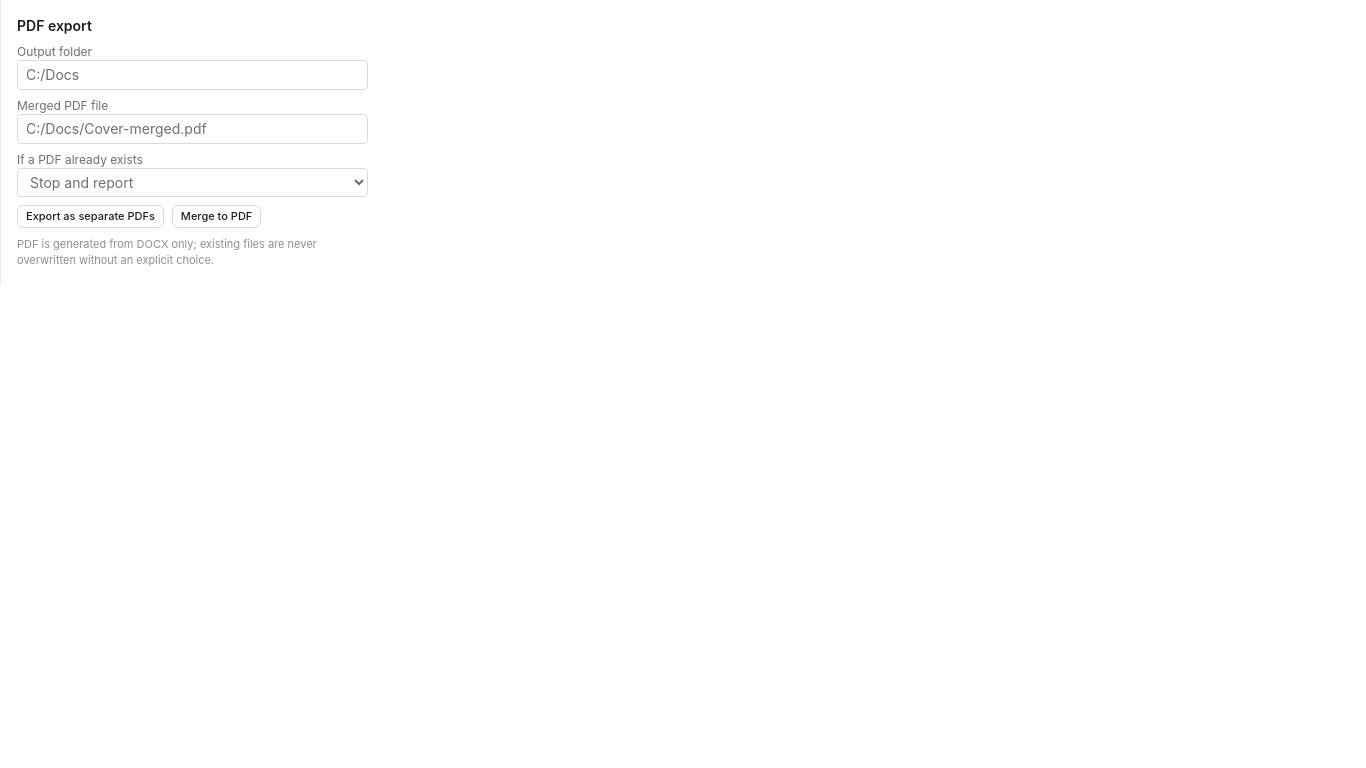
PdfExportPanel › merge sends the explicit user order and output path
The image size is (1366, 768).
Click the button "Merge to PDF".
click(217, 216)  # box [172,205,261,228]
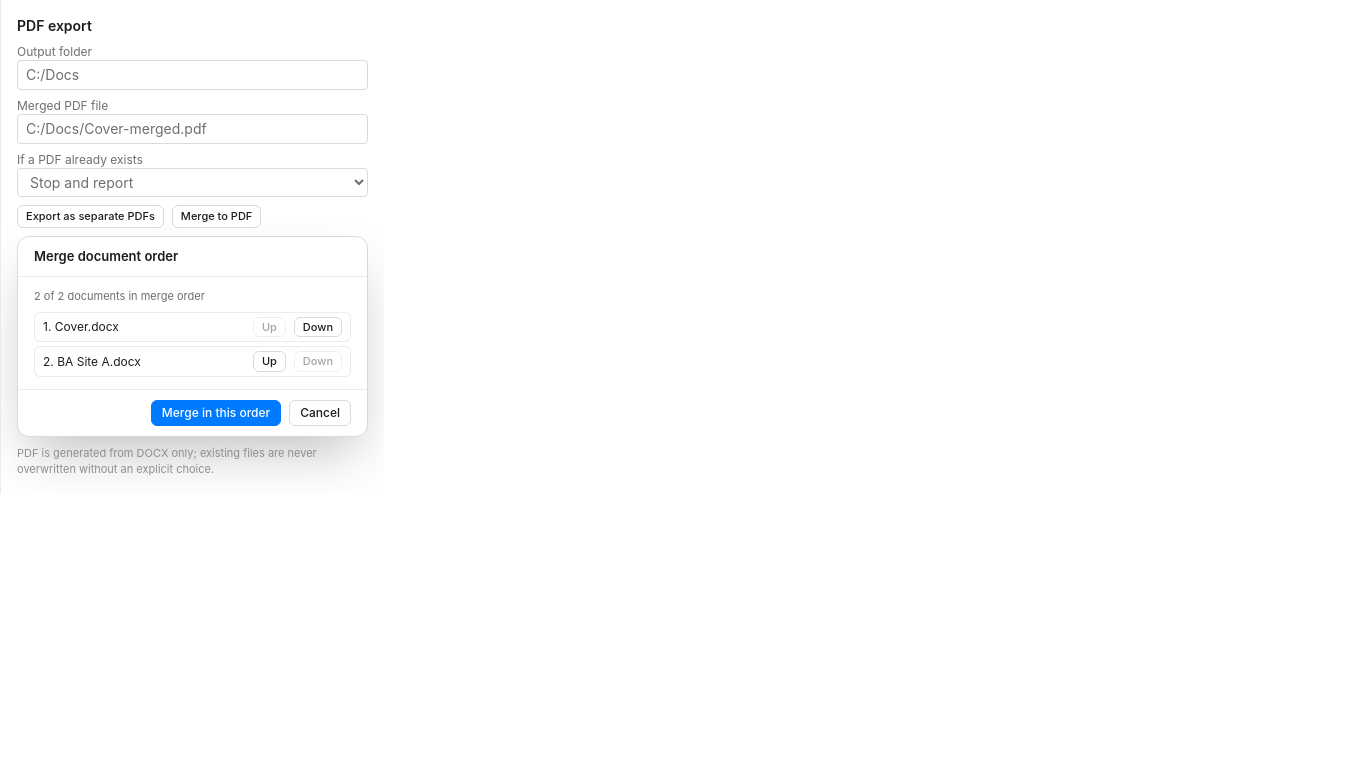
Click the button "Merge in this order".
click(216, 413)  # box [151,400,281,426]
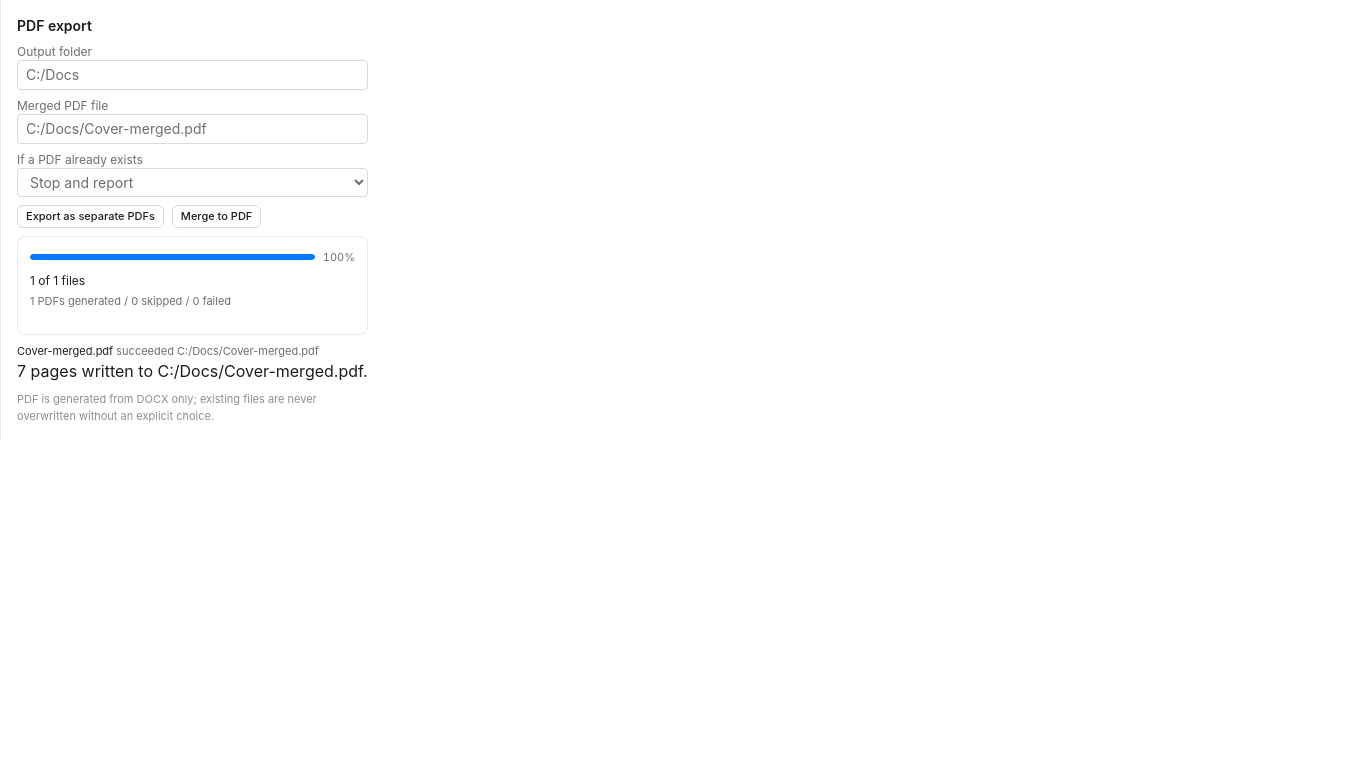
Expected: the text "C:/Docs/Cover-merged.pdf" is shown, [174,344,319,358]
Expected: the text "7 pages written to C:/Docs/Cover-merged.pdf." is shown, [17,359,368,383]
